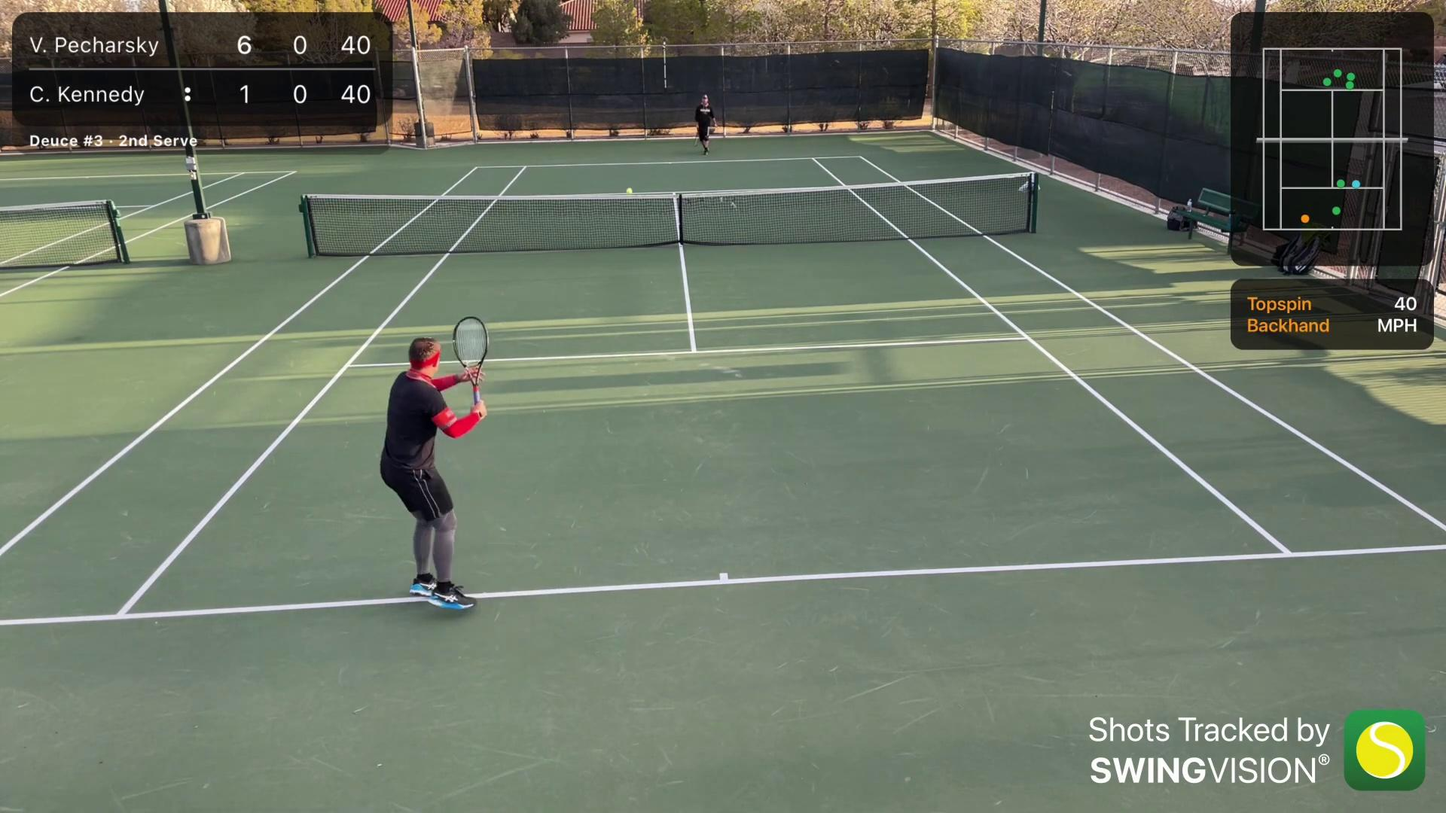ball: (626, 189, 633, 195)
